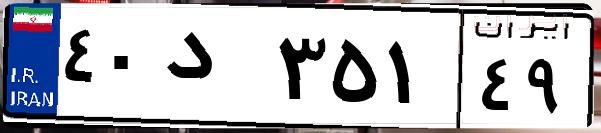0: (110, 28, 158, 98)
1: (385, 28, 445, 110)
3: (270, 28, 330, 110)
4: (57, 26, 110, 100), (475, 38, 525, 113)
5: (330, 28, 385, 110)
9: (525, 38, 570, 115)
د: (158, 20, 270, 120)
